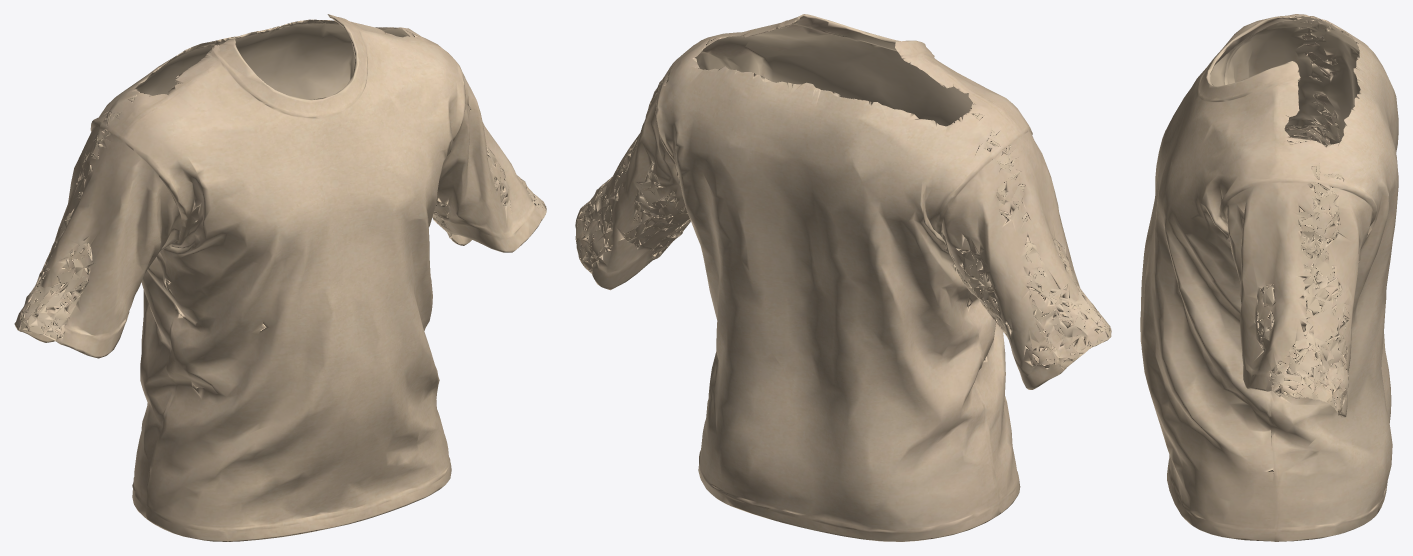
File: t-shirt.glb
The picture shows the model from 3 angles, left to right: view 1: azimuth 30°, elevation 25°; view 2: azimuth 150°, elevation 25°; view 3: azimuth 270°, elevation 25°; orthographic projection. The views are drawn at different scales.
Visible parts, largest first — view 1: T-Shirt; view 2: T-Shirt; view 3: T-Shirt.
Boxes of the visible parts, x1,y1,x2,y2 form: T-Shirt: [14, 14, 546, 541]; T-Shirt: [575, 14, 1111, 541]; T-Shirt: [1140, 14, 1398, 541].
Bounding box in the file's own units: 0.8307 × 0.6896 × 0.3666.
Materials: 1 (1 with a texture image).
